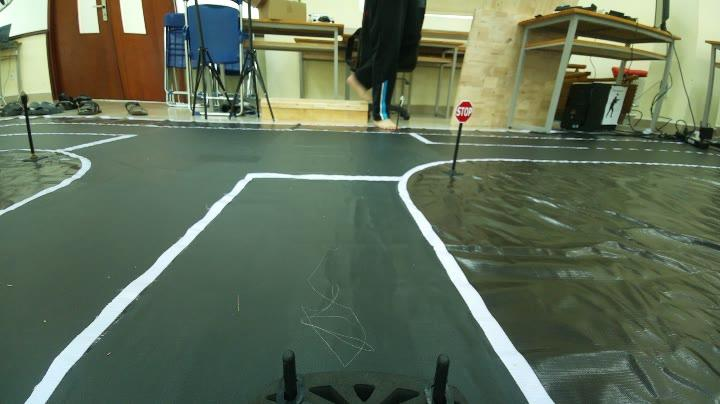stop: (448, 95, 481, 129)
